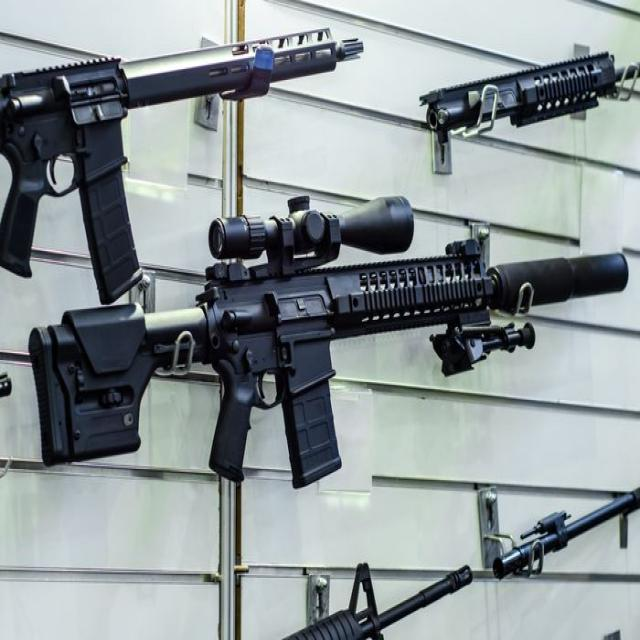Rifle: (27, 196, 630, 491)
